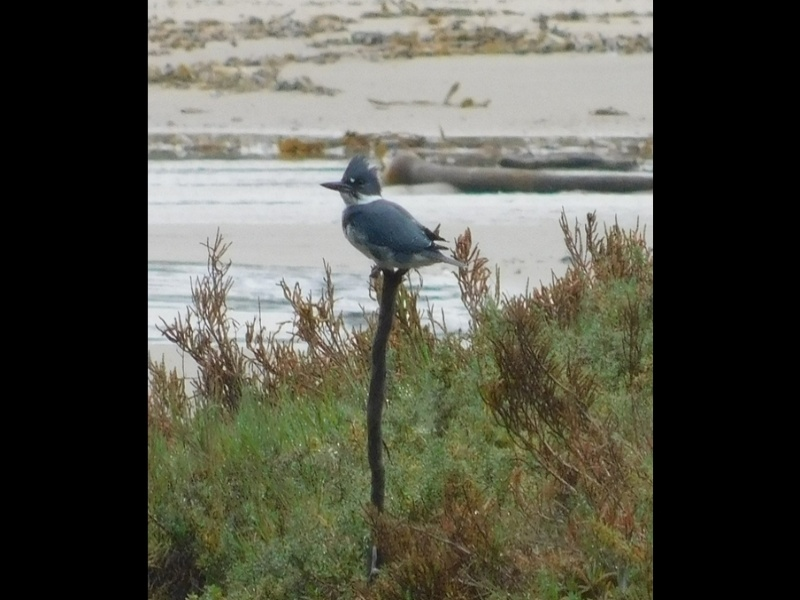kingfisher: (319, 153, 466, 292)
